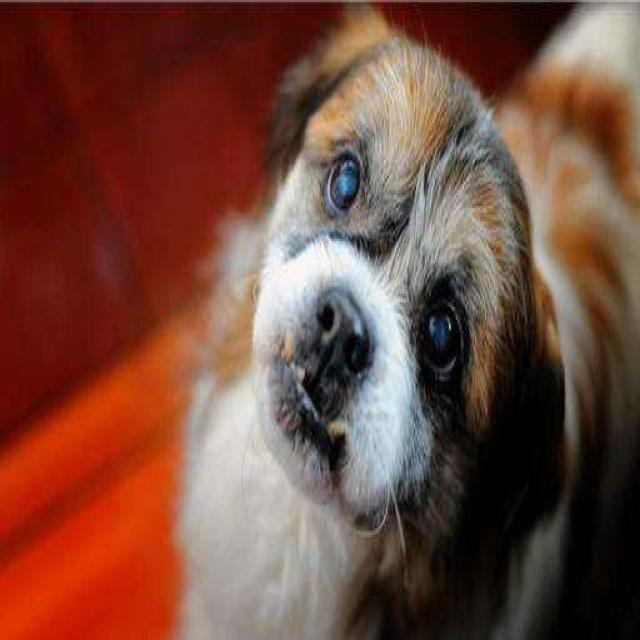eye: (412, 287, 467, 389), (318, 144, 365, 224)
